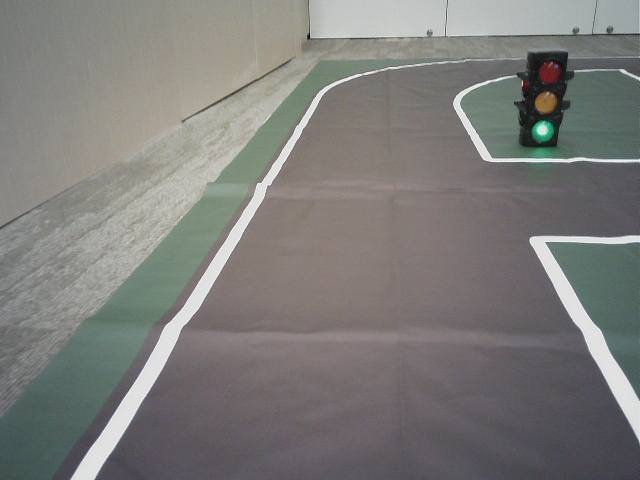green: (529, 57, 562, 145)
